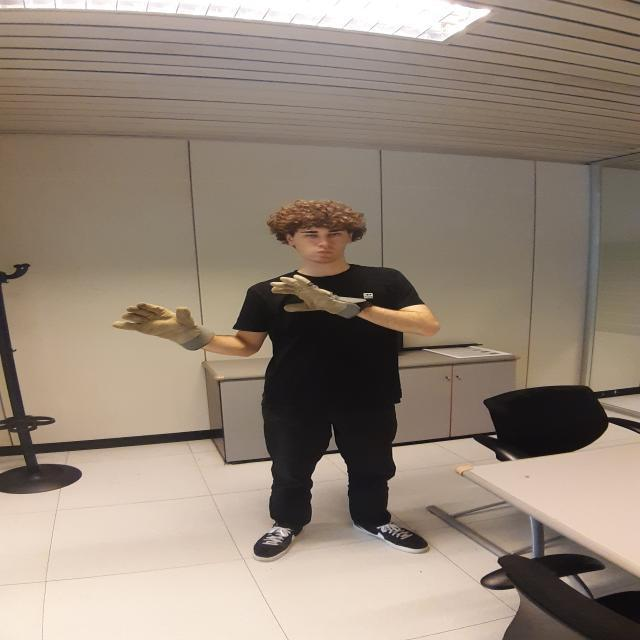gloved_hand: (267, 273, 368, 322), (110, 303, 214, 350)
